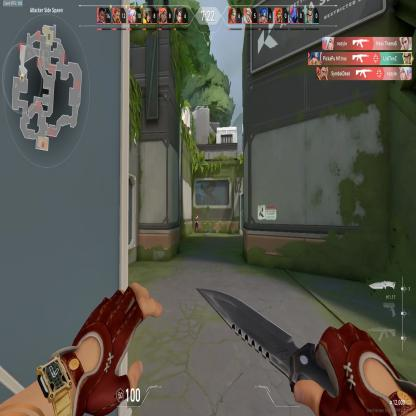enemy: (194, 211, 199, 233)
